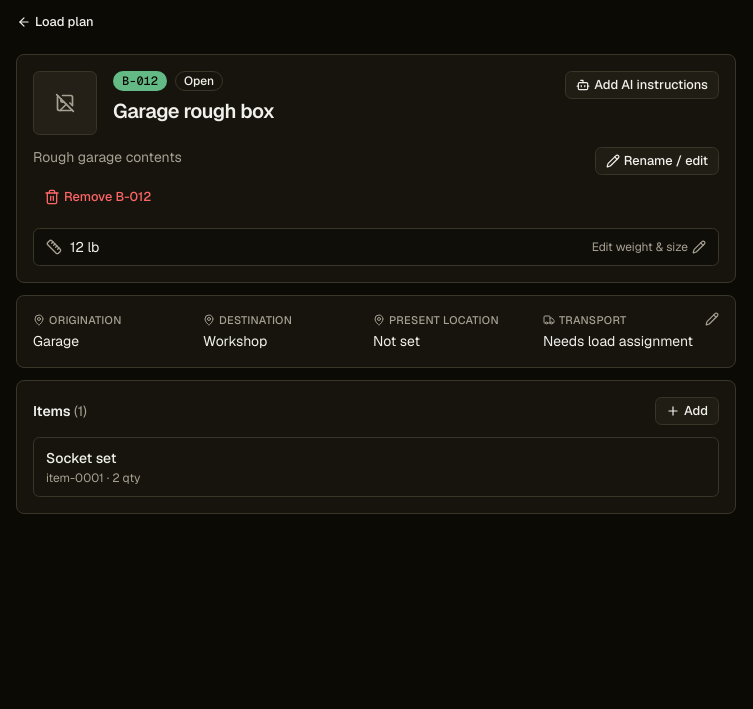
Test: BoxLookup › cancels description edits with Escape and restores the saved copy
Click the button "Rename / edit": (657, 161) 595,147 -> 719,175
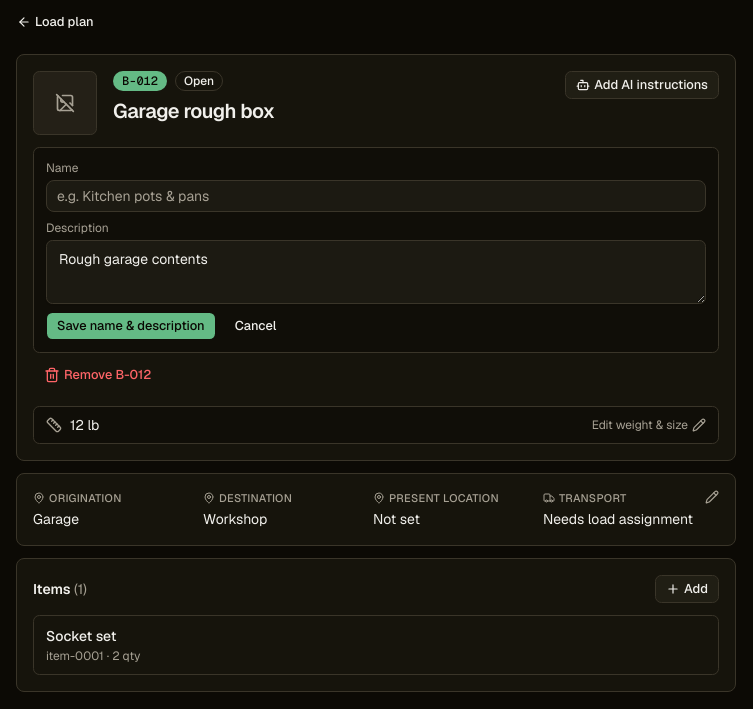
Replace the text in the text box named "Unit description" with "Unsaved garage draft": (376, 272) 46,240 -> 706,304
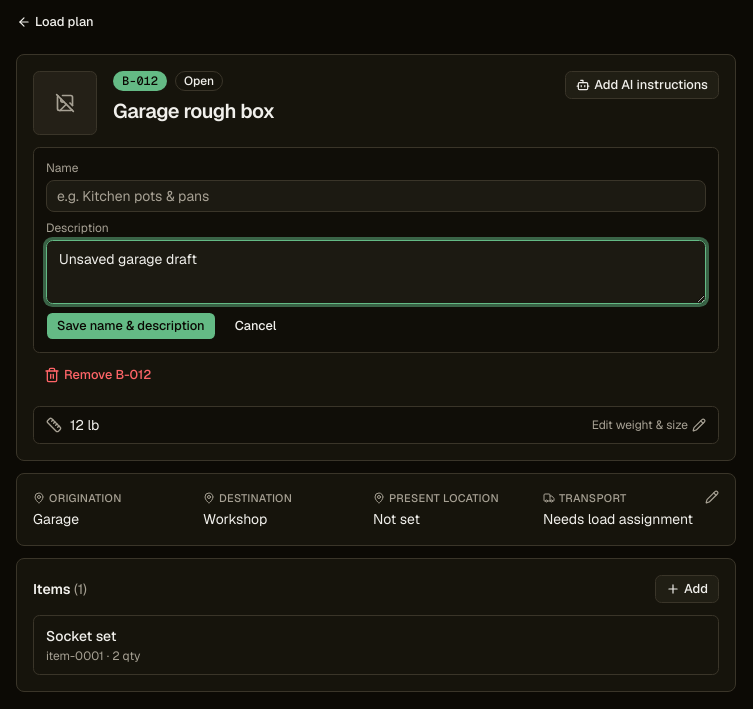
Press Escape
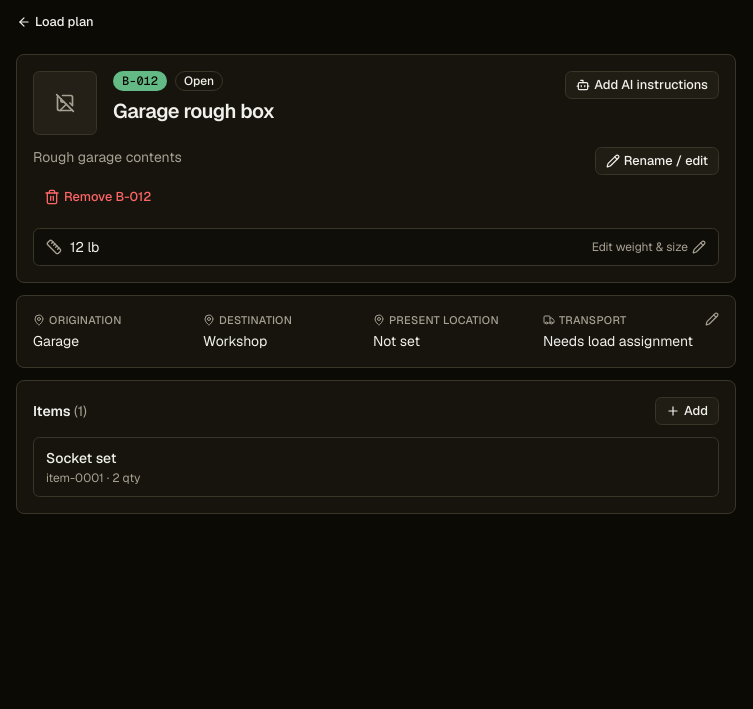
expect the text box labelled "Unit description" is gone: met
expect the text "Rough garage contents" is shown: met, box 33,148 -> 182,166
Click the button "Rename / edit": (657, 161) 595,147 -> 719,175
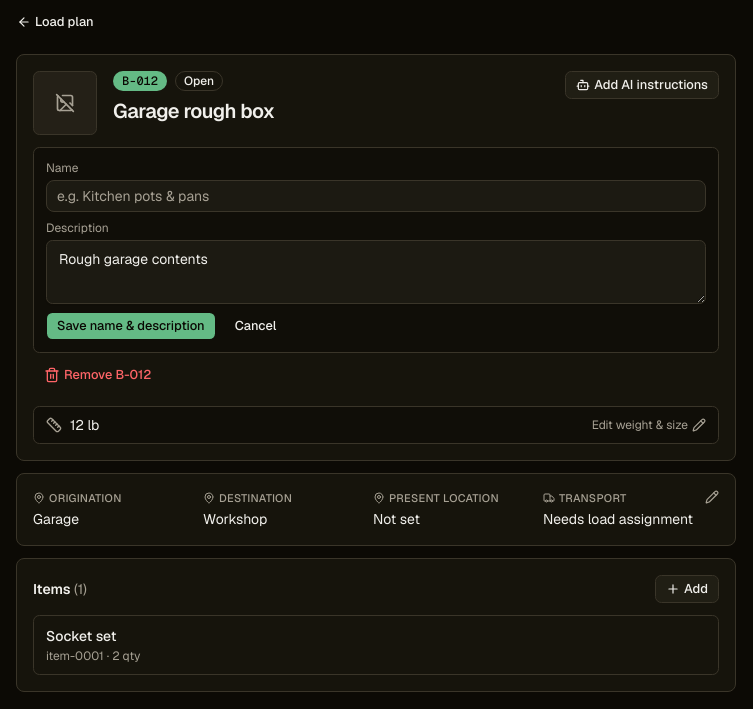
expect the text box named "Unit description" holds "Rough garage contents": met, box 46,240 -> 706,304
